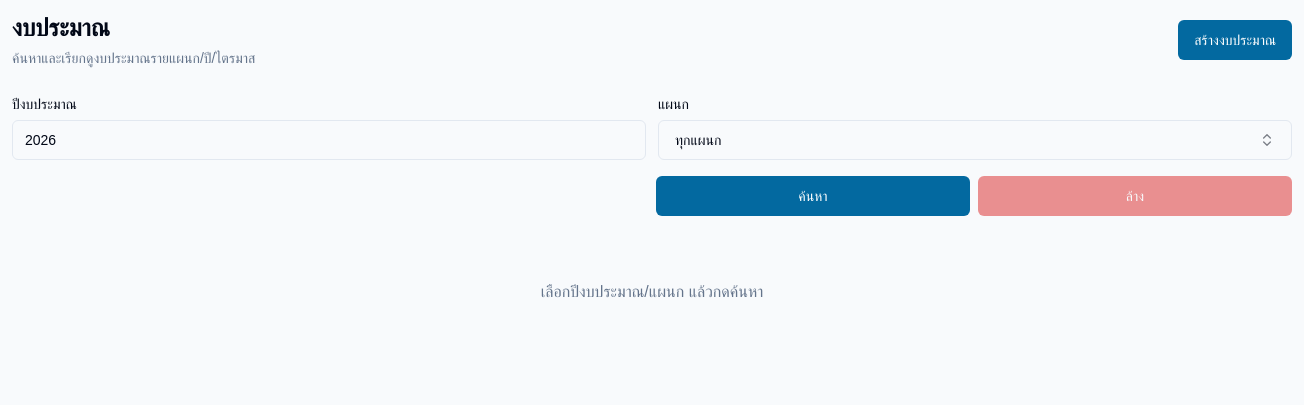
Test: BudgetListPage › sorts result rows by remaining ascending (closest-to-exhausted first)
Click the button "ค้นหา" at (813, 196), box [656,176,970,216]
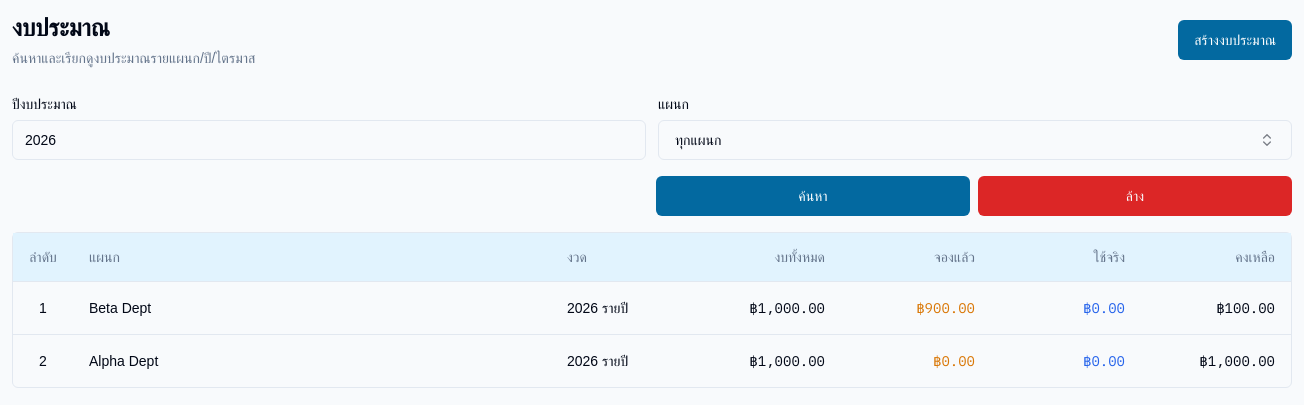
Expected: the row "1 Beta Dept 2026 รายปี ฿1,000.00 ฿900.00 ฿0.00 ฿100.00" is shown, [13,281,1291,334]
Expected: the row "2 Alpha Dept 2026 รายปี ฿1,000.00 ฿0.00 ฿0.00 ฿1,000.00" is shown, [13,334,1291,386]
